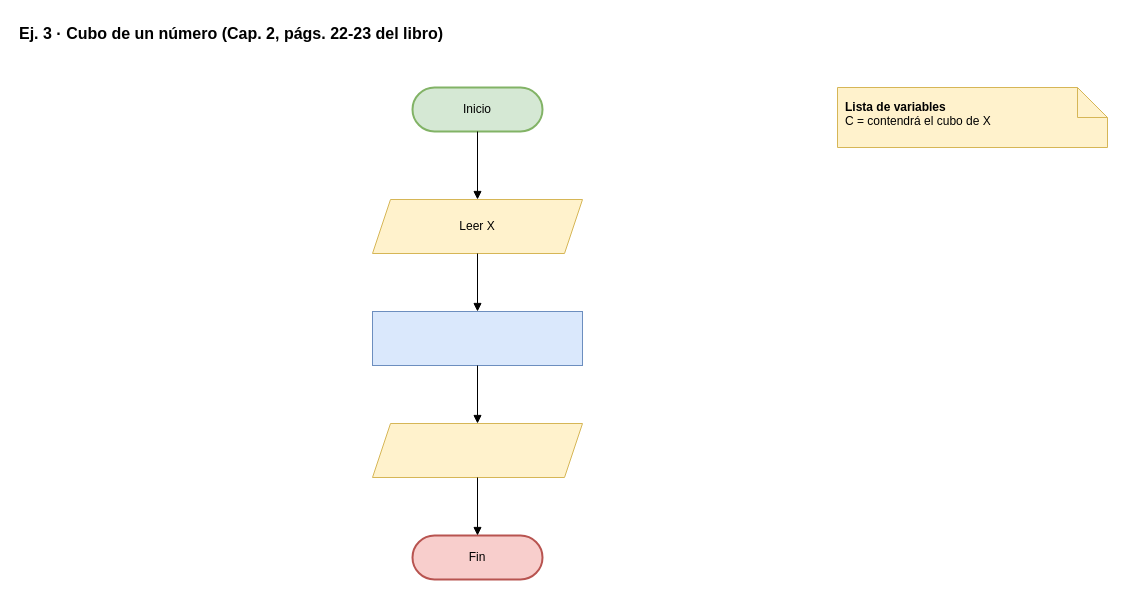
The diagram is 1125 pixels wide and 597 high, and some of its shapes have lost their labels. Each missing label, with the box of its shape:
C = X × X × X: (372, 310, 582, 366)
Escribir C: (372, 422, 582, 478)
